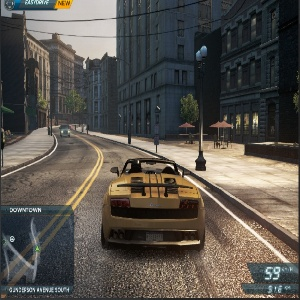building: (34, 32, 88, 123)
lamp post: (111, 54, 138, 146), (195, 46, 209, 172)
tree: (181, 94, 199, 146), (68, 91, 87, 123)
vehicle: (60, 122, 72, 139)
